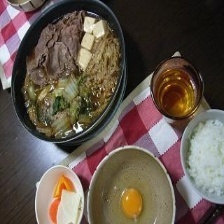rice: (186, 120, 224, 195)
